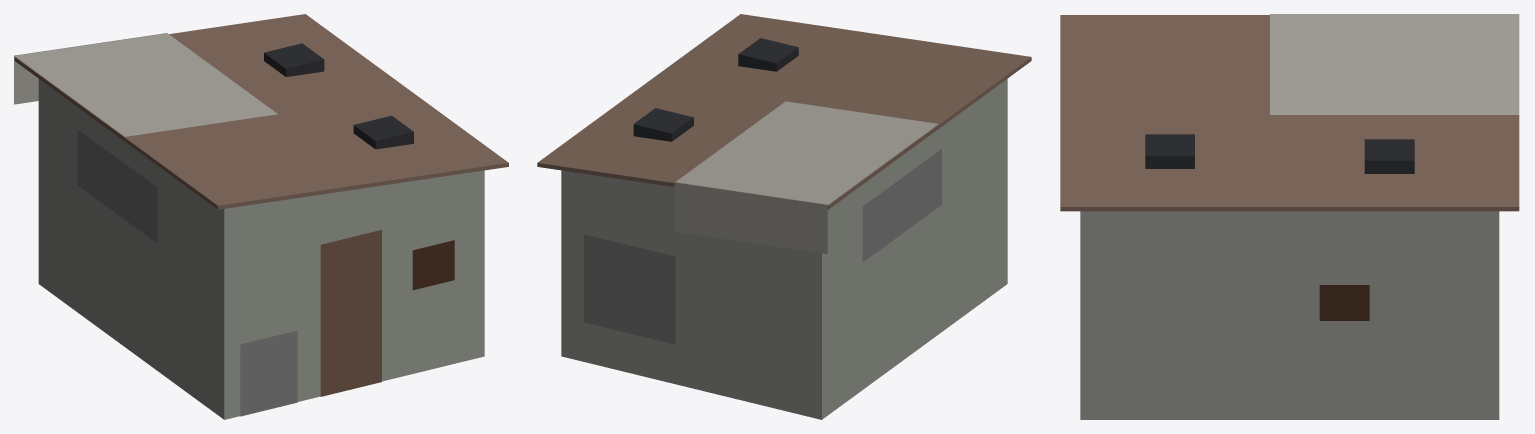
The model's file is fill2.fbx.
3 renders of one model, left to right at view 1: azimuth 30°, elevation 25°; view 2: azimuth 150°, elevation 25°; view 3: azimuth 270°, elevation 25°, orthographic. The views are drawn at different scales.
Visible parts, largest first — view 1: a2014/0/fill2; view 2: a2014/0/fill2; view 3: a2014/0/fill2.
Boxes of the visible parts, box(x1,y1,x2,y2) form: a2014/0/fill2: box(14, 14, 508, 419); a2014/0/fill2: box(537, 14, 1031, 419); a2014/0/fill2: box(1060, 14, 1519, 419).
Size of the model in its own units: 3.8 by 2.81 by 4.61.
